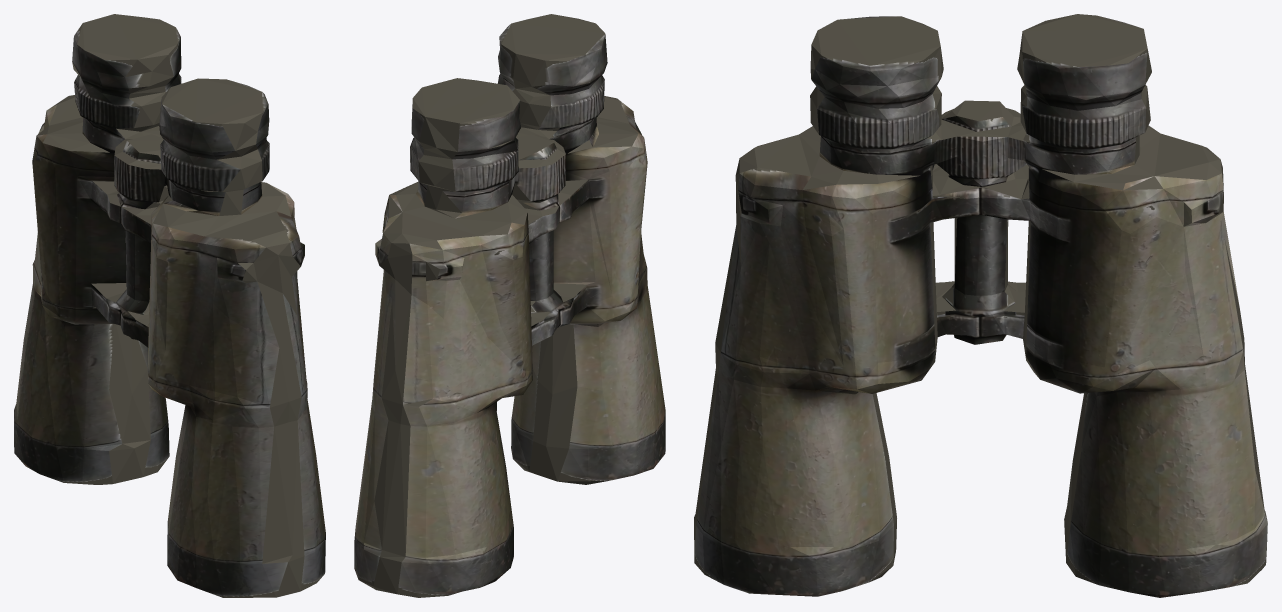
File: binoculars.glb
3 renders of one model, left to right at view 1: azimuth 30°, elevation 25°; view 2: azimuth 150°, elevation 25°; view 3: azimuth 270°, elevation 25°, orthographic. The views are drawn at different scales.
Visible parts, largest first — view 1: Mesh_0; view 2: Mesh_0; view 3: Mesh_0.
Boxes of the visible parts, x1=… form: Mesh_0: x1=14, y1=14, x2=325, y2=597; Mesh_0: x1=354, y1=14, x2=665, y2=597; Mesh_0: x1=694, y1=14, x2=1267, y2=597.
Bounding box in the file's own units: 0.0574 × 0.17 × 0.1694.
1 material, 1 textured.
